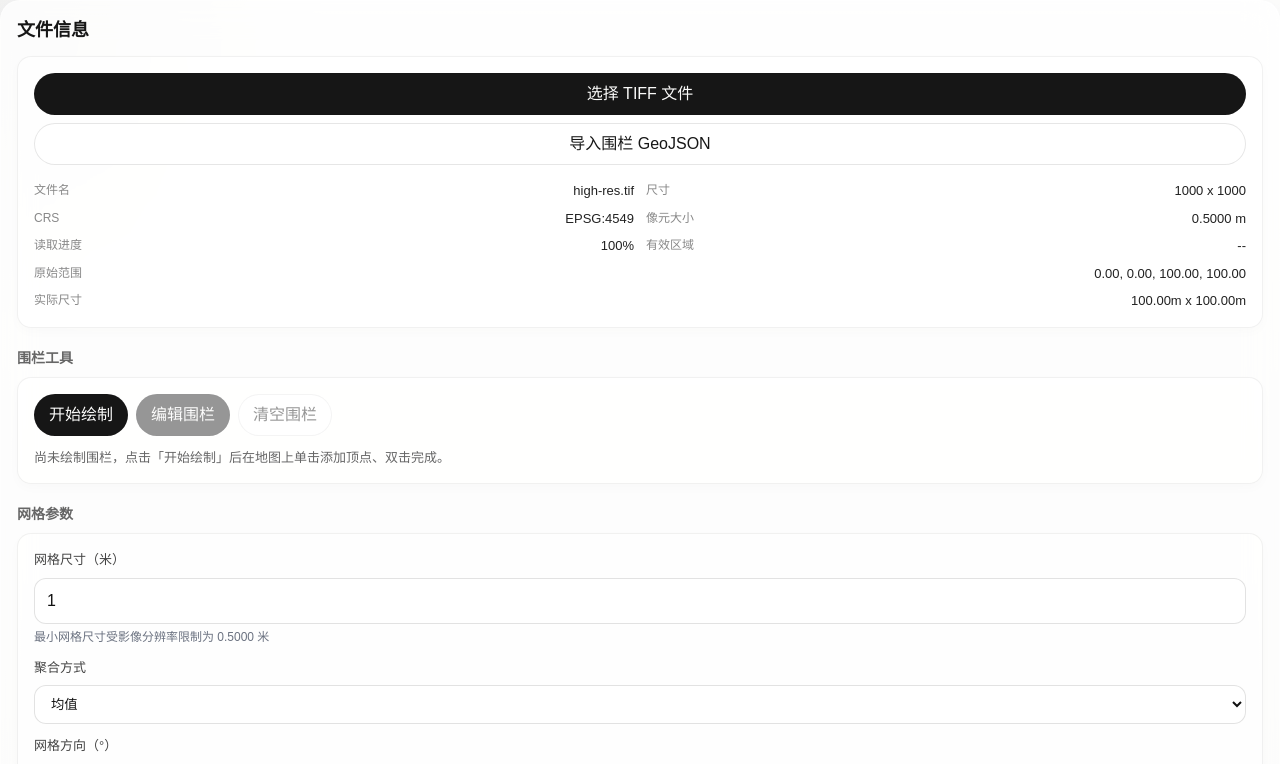
Test case: LeftPanel › clamps cell size to the minimum allowed by raster resolution
Expected: the text "最小网格尺寸受影像分辨率限制为 0.5000 米" is shown, [34,630,269,644]
Replace the text in the number field labelled "网格尺寸（米）" with "0.1": (640,600) [34,578,1246,624]
Wait 300 ms
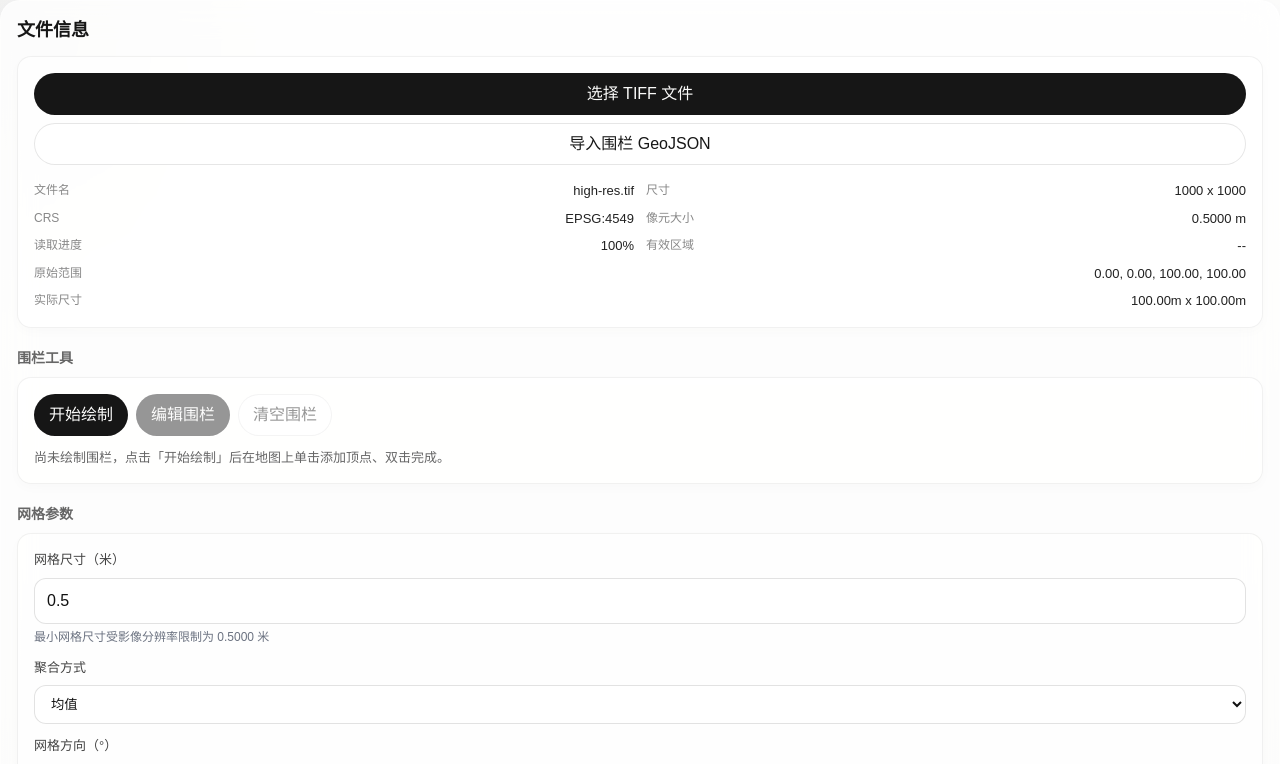
Expected: the number field labelled "网格尺寸（米）" holds "0.5", [34,578,1246,624]
